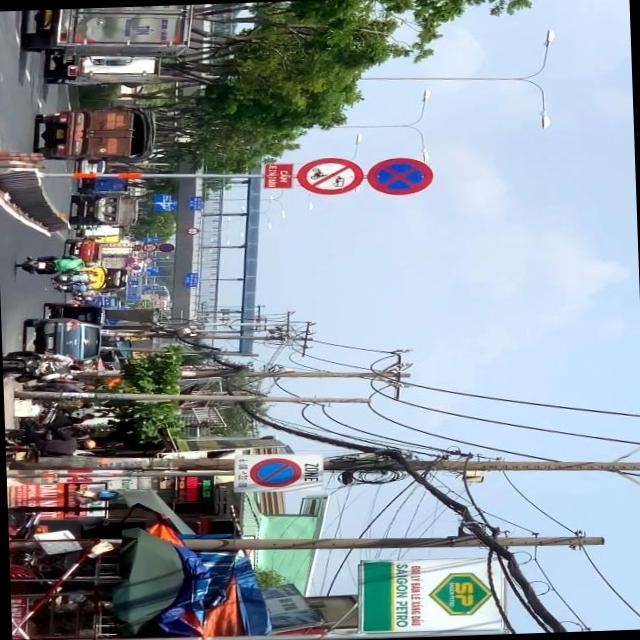P-104: (296, 156, 362, 195)
P-130: (368, 156, 432, 194)
